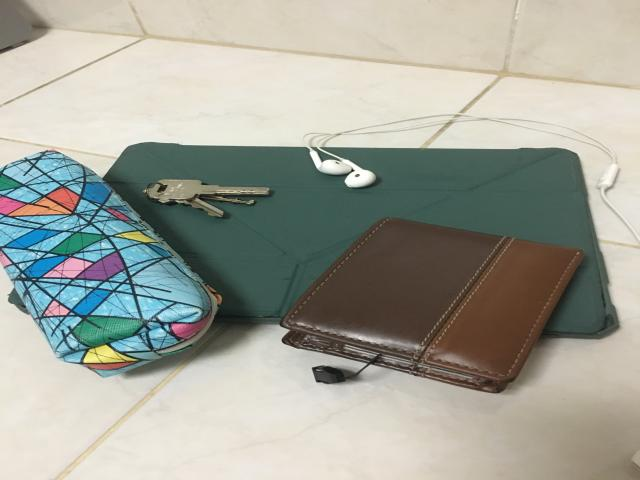Keys: (144, 179, 274, 219)
Wallet: (279, 217, 585, 395)
wire: (301, 121, 446, 190)
